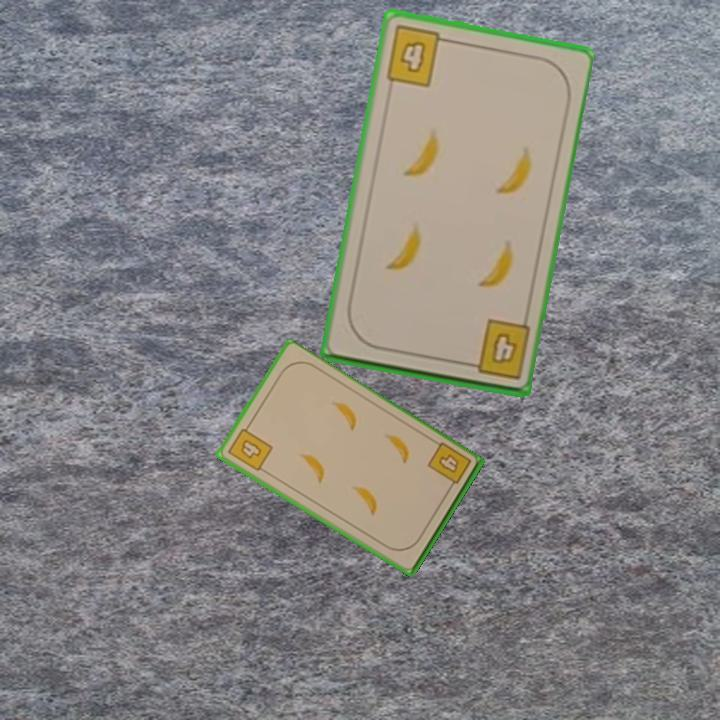4b: (381, 22, 453, 90), (460, 316, 533, 382), (224, 420, 276, 474), (424, 439, 474, 494)
